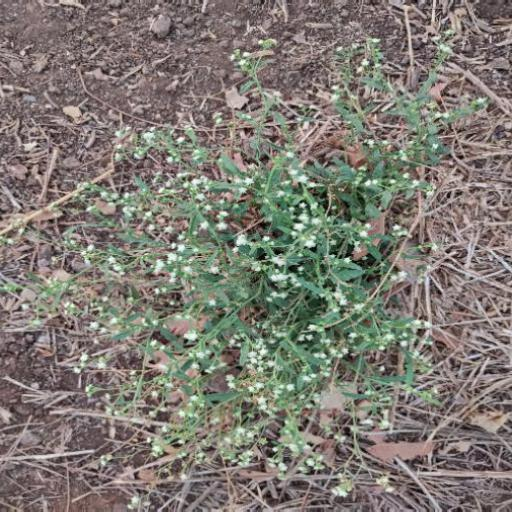weed: (78, 90, 447, 449)
